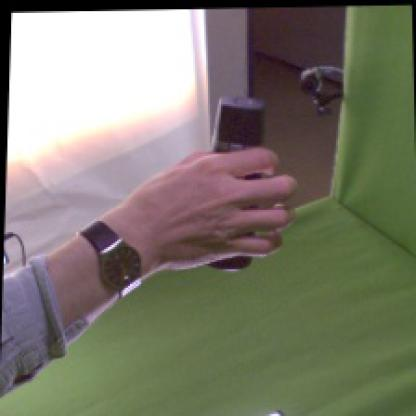Hand: (126, 148, 299, 273)
